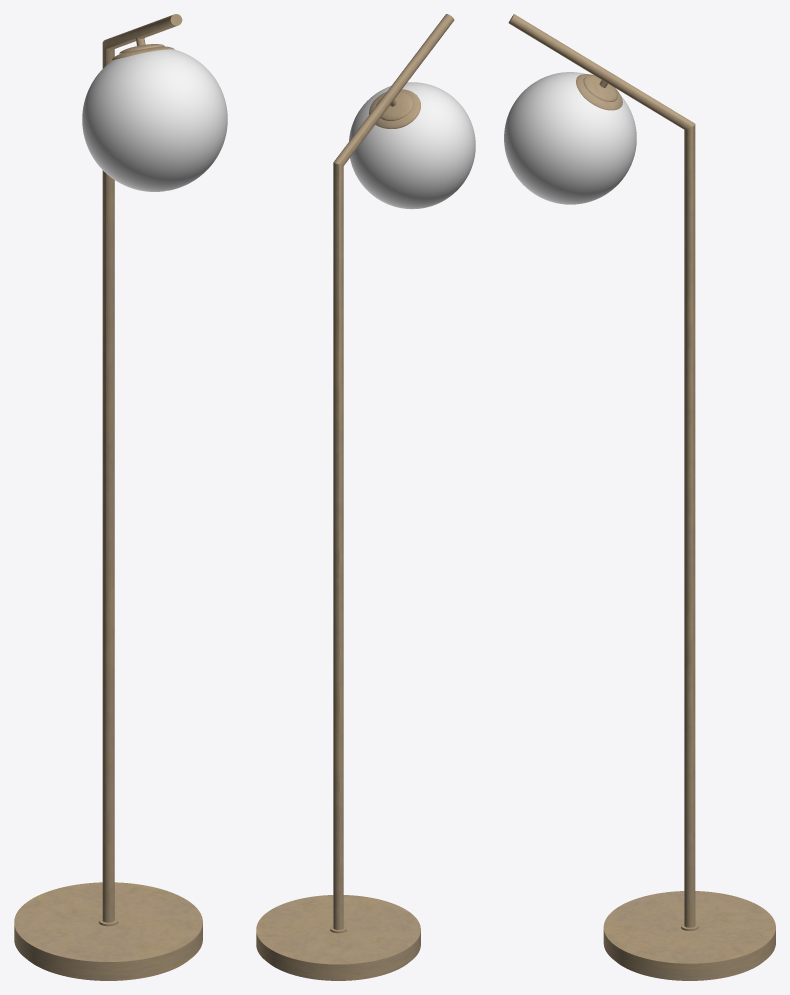
The model's file is cedric_floor_lamp.gltf.
3 renders of one model, left to right at view 1: azimuth 30°, elevation 25°; view 2: azimuth 150°, elevation 25°; view 3: azimuth 270°, elevation 25°, orthographic. The views are drawn at different scales.
Visible parts, largest first — view 1: Mesh; view 2: Mesh; view 3: Mesh.
Part boxes in pixels (<box>): Mesh: <box>14,14,227,980</box>; Mesh: <box>256,14,475,980</box>; Mesh: <box>504,14,775,980</box>.
Size of the model in its own units: 0.2555 by 1.5 by 0.4026.
1 material, 1 textured.
